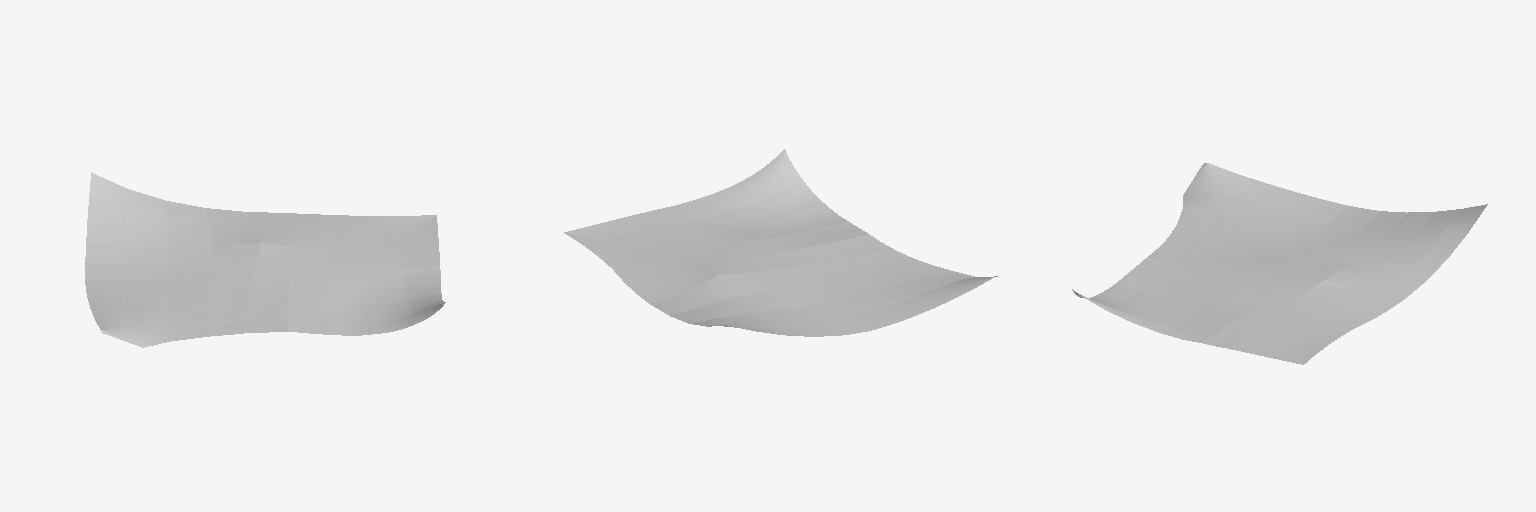
File: paper.obj
3 renders of one model, left to right at view 1: azimuth 30°, elevation 25°; view 2: azimuth 150°, elevation 25°; view 3: azimuth 270°, elevation 25°, orthographic.
Parts seen in each view (by area): view 1: Plane; view 2: Plane; view 3: Plane.
Boxes of the visible parts, x1,y1,x2,y2 form: Plane: [85, 172, 445, 347]; Plane: [564, 149, 997, 336]; Plane: [1072, 163, 1487, 364].
Bounding box in the file's own units: 2.49 × 0.2746 × 2.33.